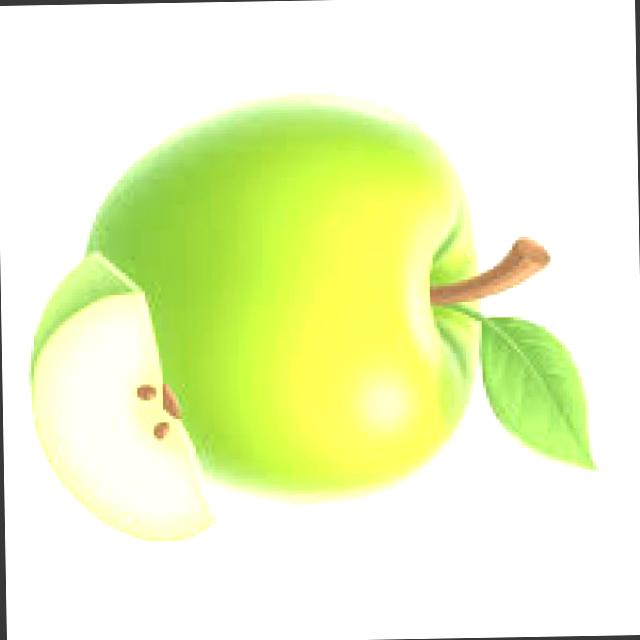Green Juicy Apple: (88, 94, 486, 503)
Used Apple: (28, 252, 210, 549)
